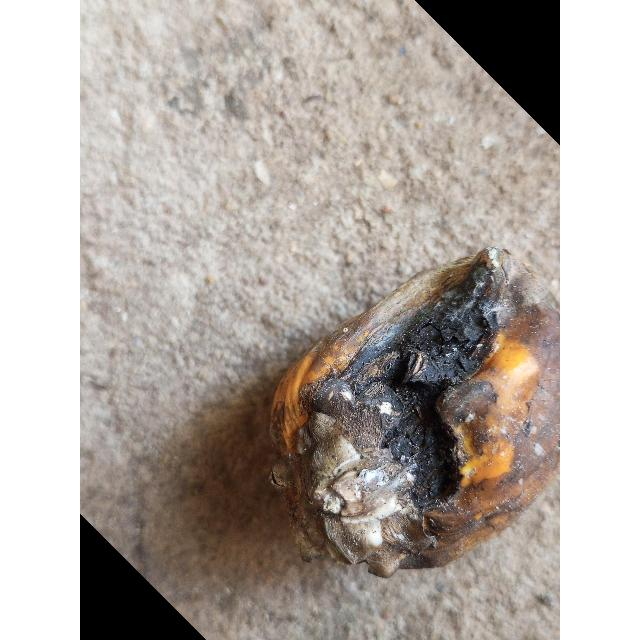damaged: (270, 250, 560, 580)
